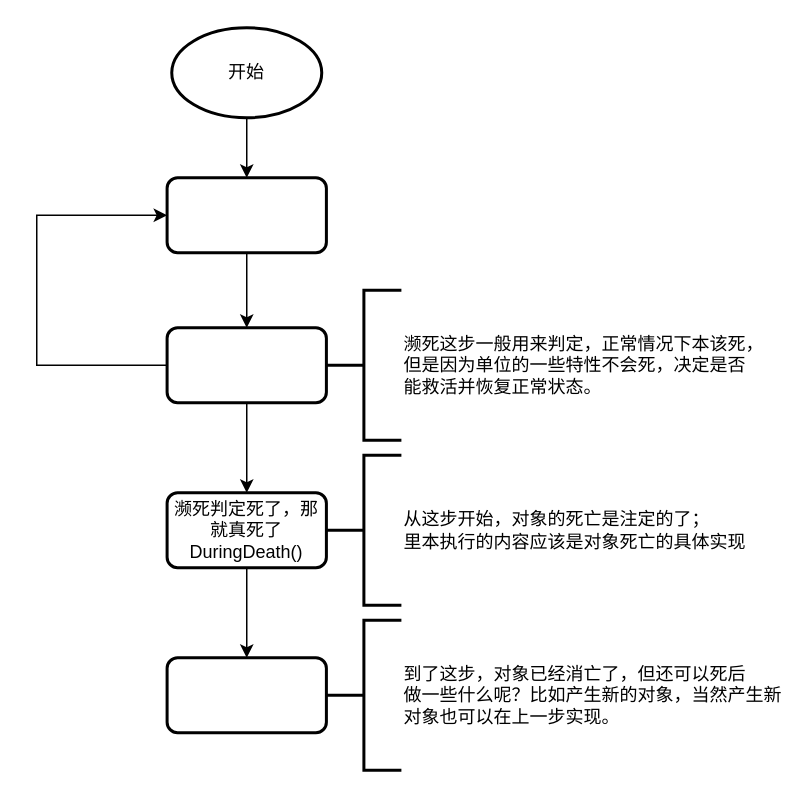
Image size: 809x797. Some labels were removed from this diagram. Each missing label, with the centre of its shape:
"因各种原因要死了，先进入濒死判定BeforeDeath()" goes at (246,365).
"正常状态，这里可以是非死亡状态" goes at (246,215).
"死已经是过去式了，死后余波AfterDeath()" goes at (246,695).
